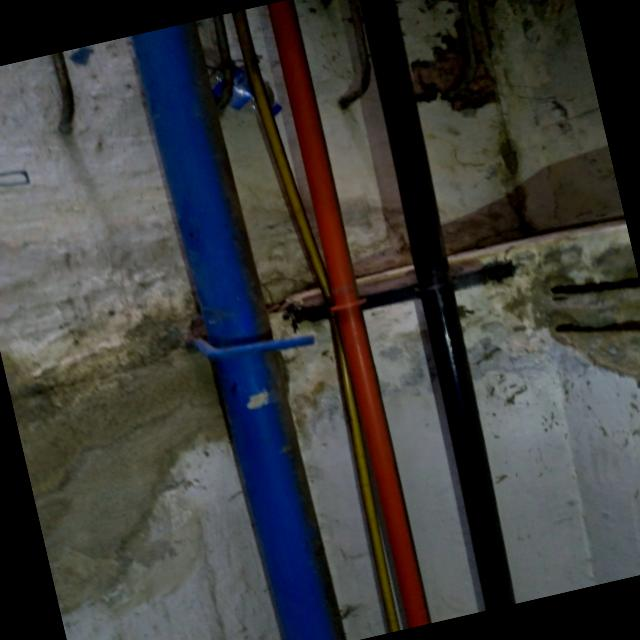gas: (135, 19, 344, 640), (338, 0, 535, 611), (260, 0, 437, 629)
